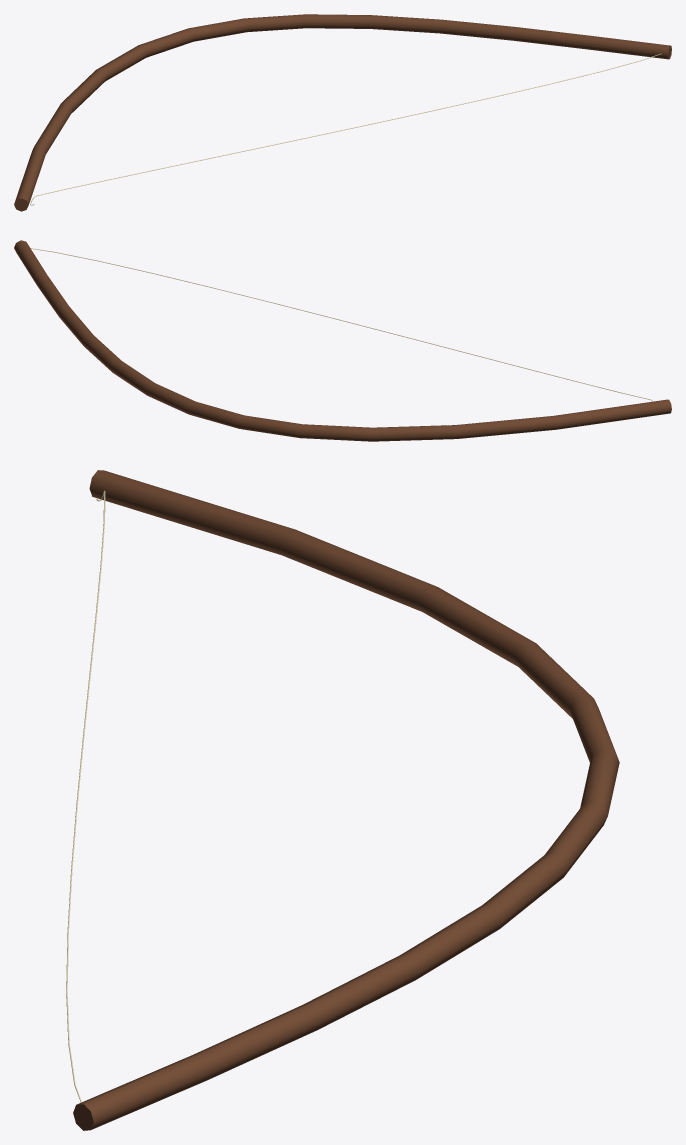
File: bow.fbx
3 views of the same model, one above another, from view 1: azimuth 30°, elevation 25°; view 2: azimuth 150°, elevation 25°; view 3: azimuth 270°, elevation 25° (orthographic). The views are drawn at different scales.
Parts seen in each view (by area): view 1: BézierCurve, Bow String; view 2: BézierCurve, Bow String; view 3: BézierCurve, Bow String.
Part boxes in pixels (x1,y1,x2,y2): BézierCurve: [14, 14, 671, 211]; Bow String: [30, 53, 661, 205]; BézierCurve: [14, 240, 671, 441]; Bow String: [30, 248, 653, 401]; BézierCurve: [73, 470, 619, 1130]; Bow String: [66, 490, 105, 1102].
Size of the model in its own units: 233 by 7.15 by 85.29.
